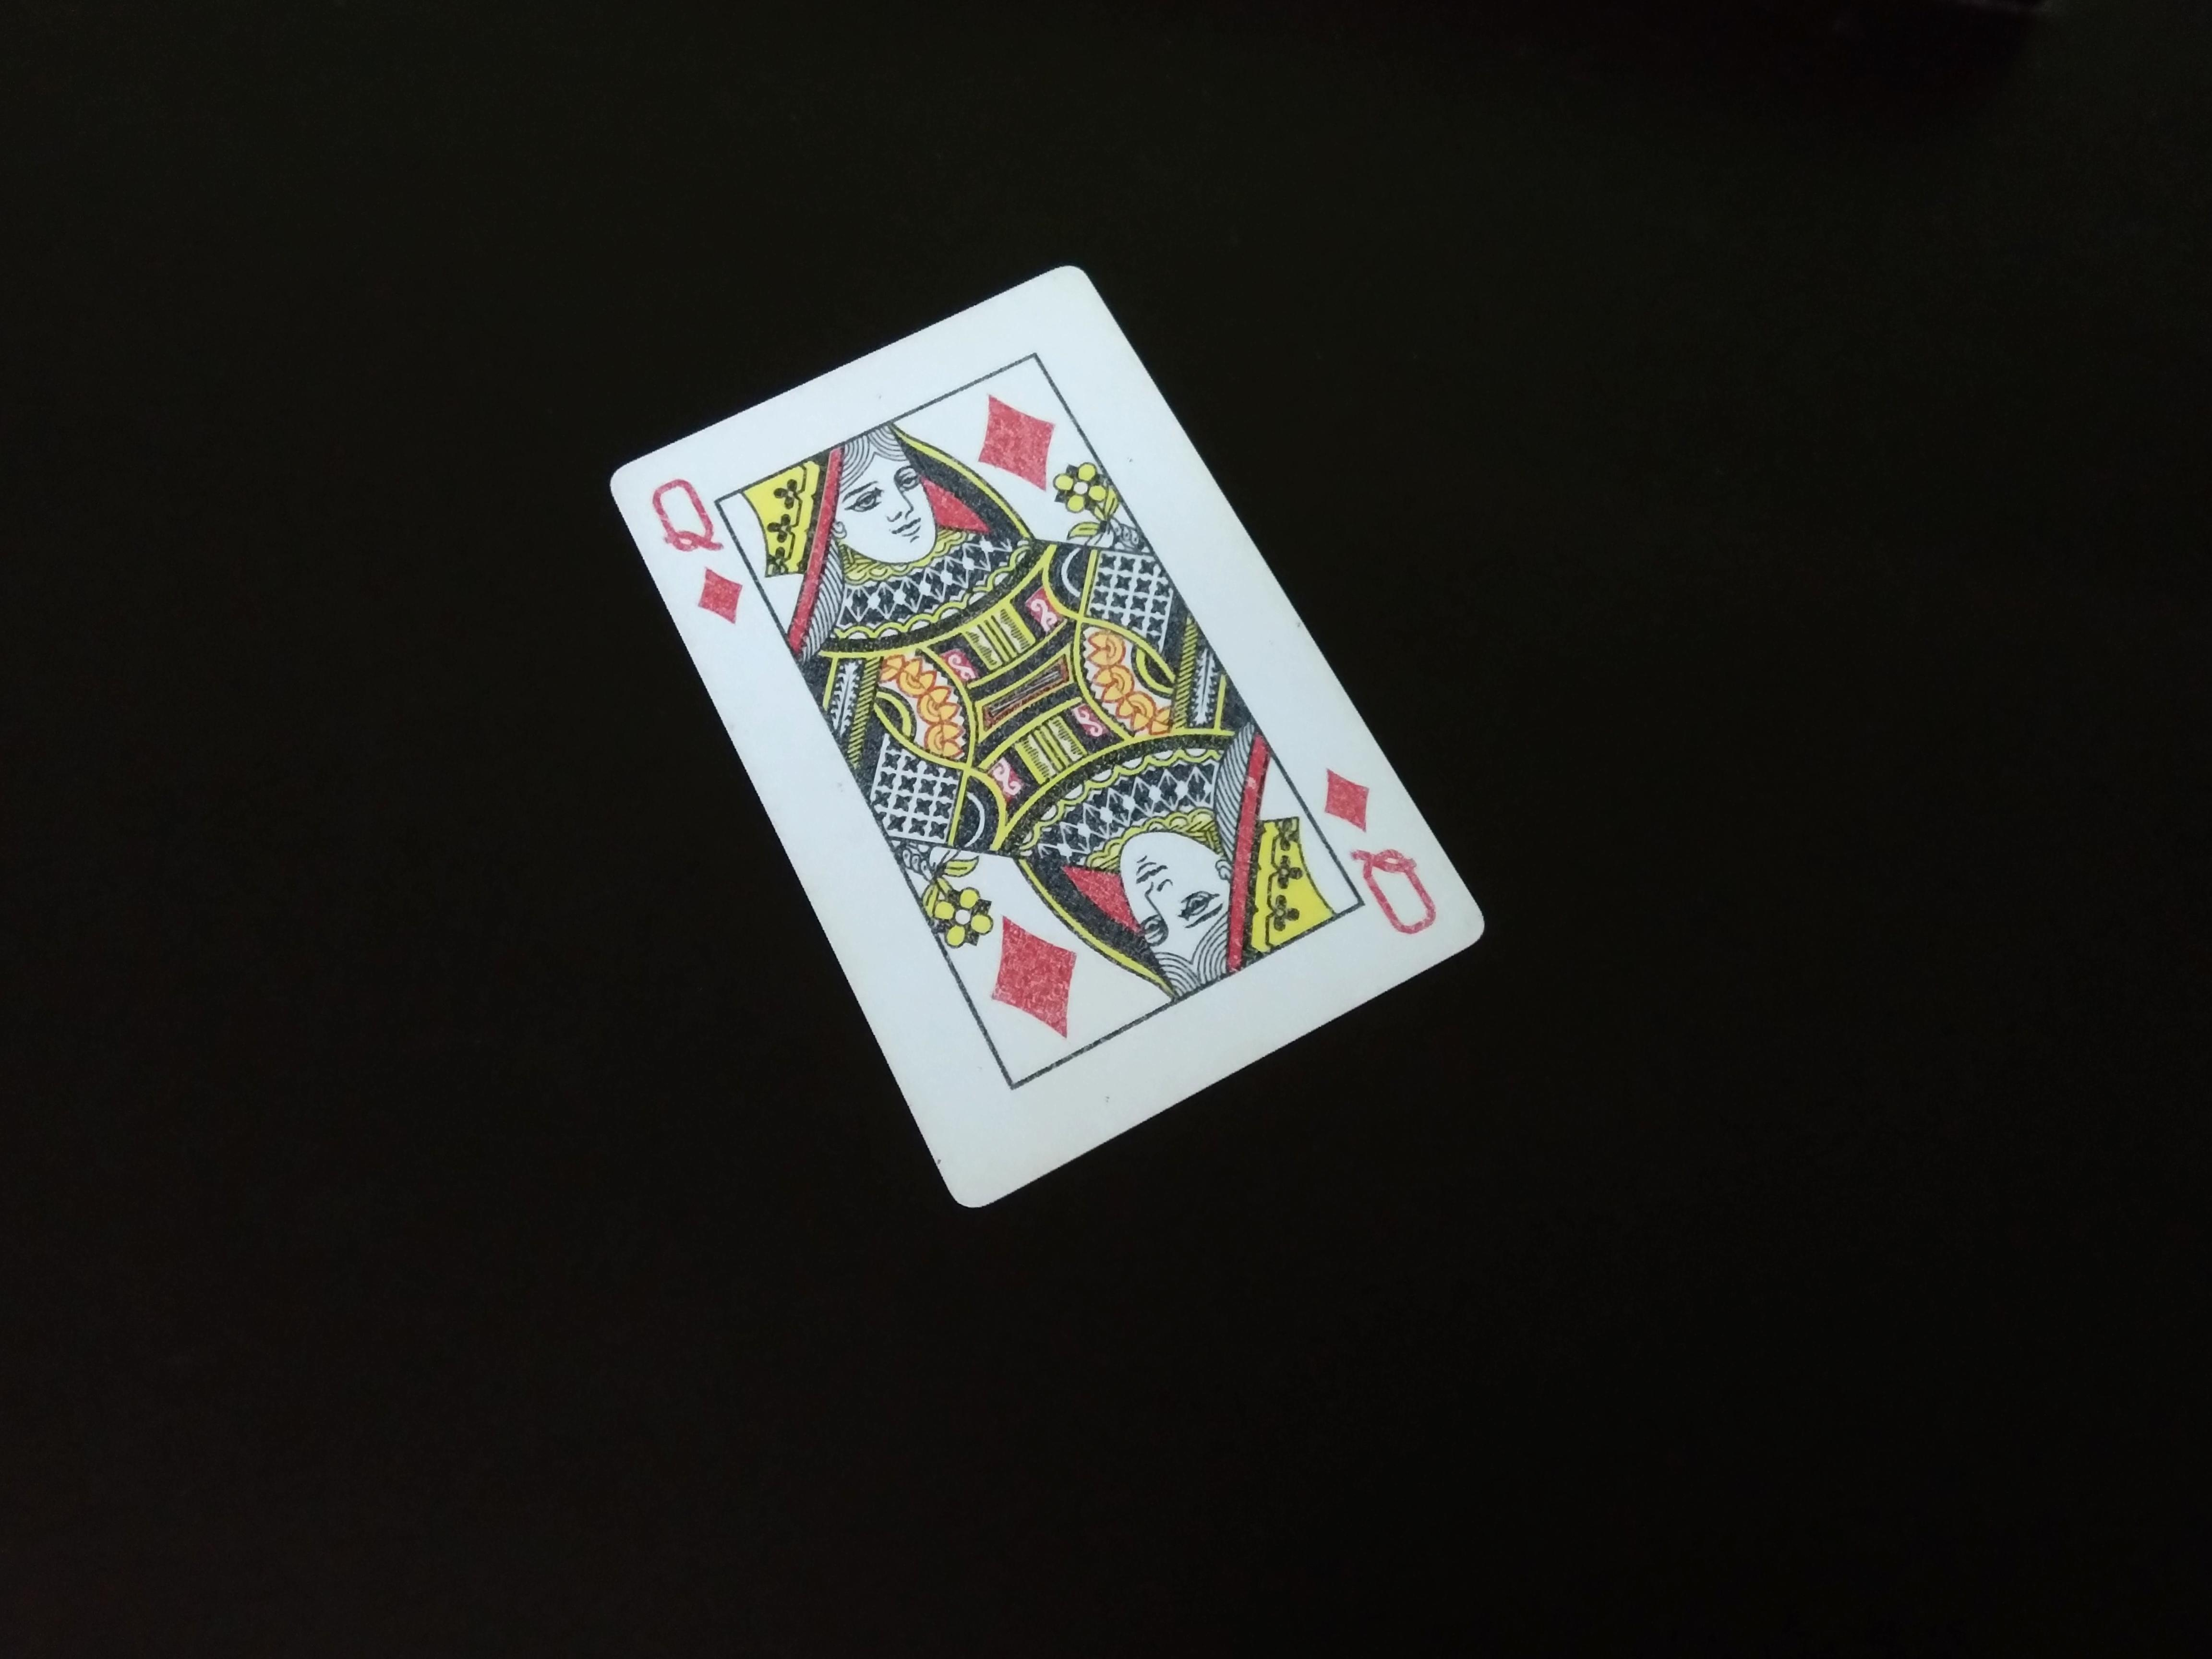QD: (627, 471, 756, 633)
